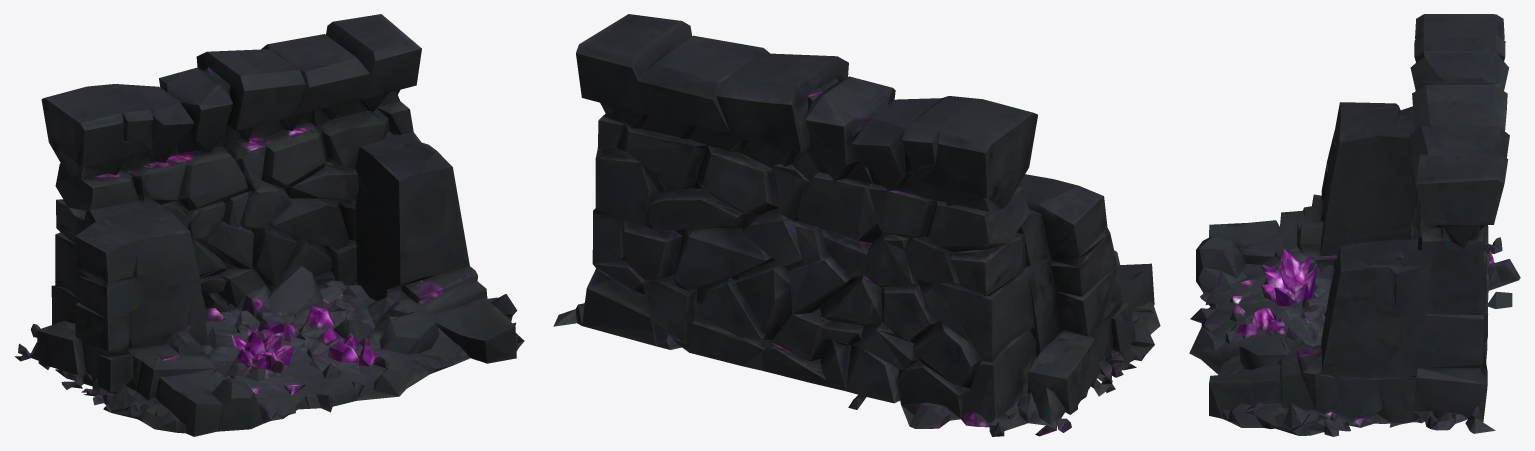
File: wall_caves.glb
3 views of the same model, side by side, from view 1: azimuth 30°, elevation 25°; view 2: azimuth 150°, elevation 25°; view 3: azimuth 270°, elevation 25° (orthographic). The views are drawn at different scales.
Size of the model in its own units: 1.85 by 1.03 by 1.25.
Materials: 1 (1 with a texture image).
